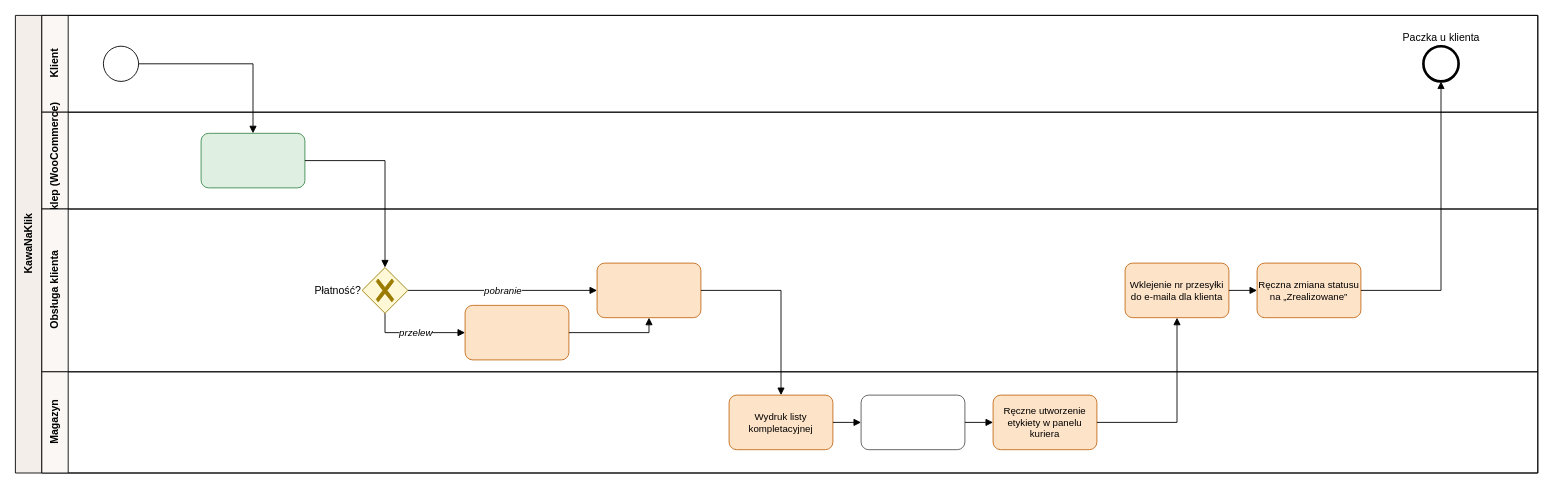
The diagram is 1553 pixels wide and 488 high, and some of its shapes have lost their labels. The shapes that lost their labels are listed below. From the top down, each one's centre as x and y in pixels, then its label:
the point at 121,63: Złożenie zamówienia
the point at 252,160: Zapis zamówienia, e-mail z potwierdzeniem
the point at 648,290: Przepisanie zamówienia do arkusza Excel
the point at 516,332: Sprawdzenie wpływu przelewu na wyciągu
the point at 912,422: Kompletacja i pakowanie paczki
